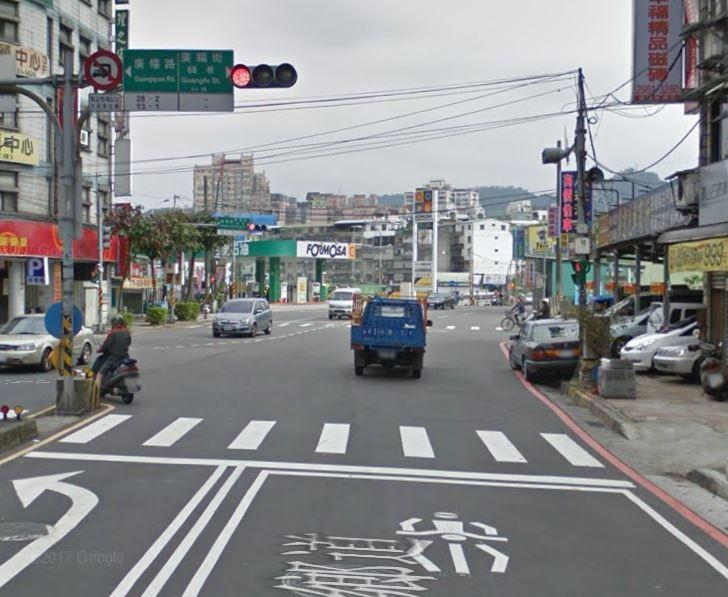red_traffic_light: (228, 61, 296, 88)
